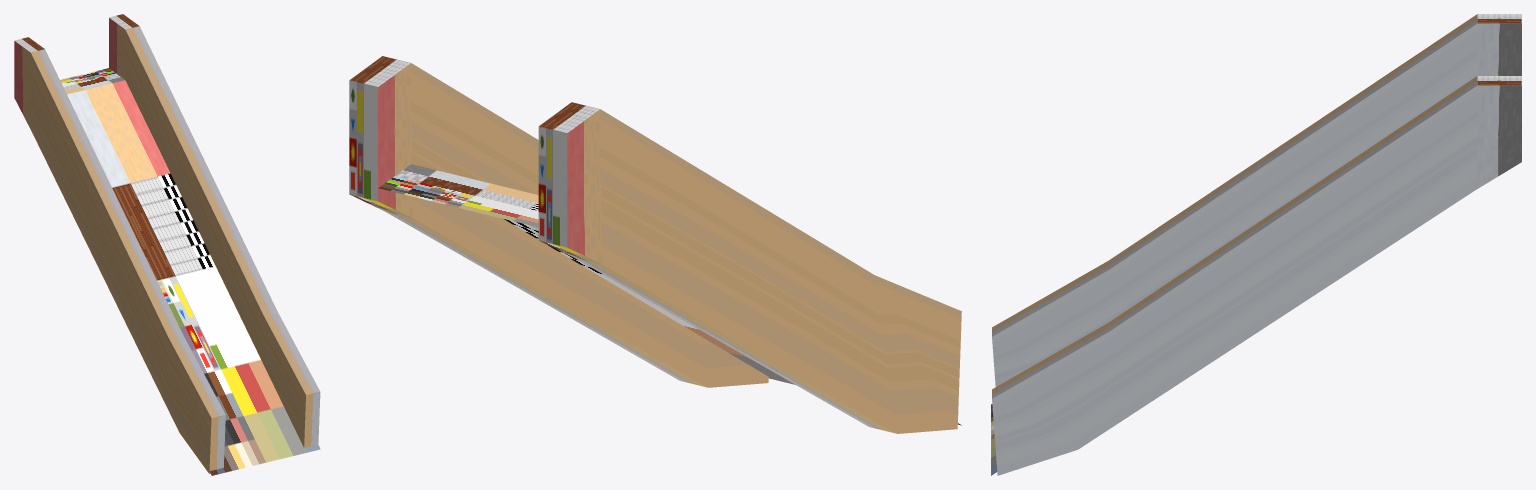
Rendered from Stairs_2_physics.fbx.
3 views of the same model, side by side, from view 1: azimuth 30°, elevation 25°; view 2: azimuth 150°, elevation 25°; view 3: azimuth 270°, elevation 25° (orthographic). The views are drawn at different scales.
Visible parts, largest first — view 1: polySurface1601; view 2: polySurface1601; view 3: polySurface1601.
Part boxes in pixels (<box>): polySurface1601: <box>14,14,320,475</box>; polySurface1601: <box>349,56,961,433</box>; polySurface1601: <box>991,14,1521,475</box>.
Bounding box in the file's own units: 3.8 × 9.69 × 11.94.
1 material, 1 textured.
